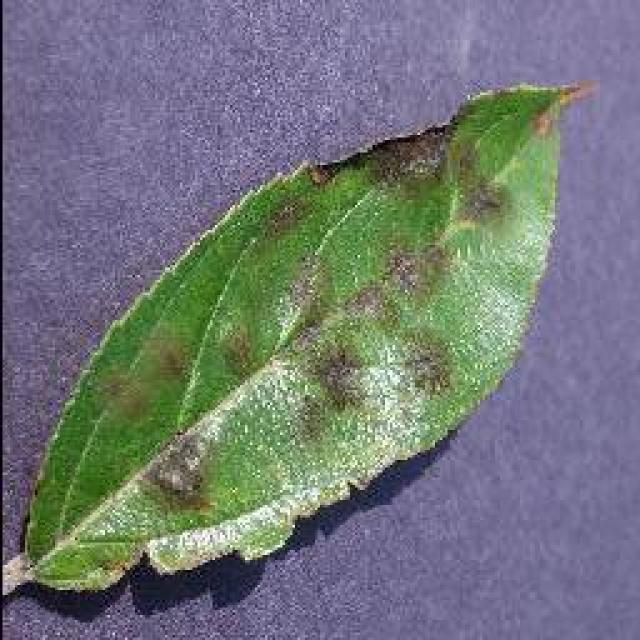apple scab disease: (2, 72, 598, 600)
